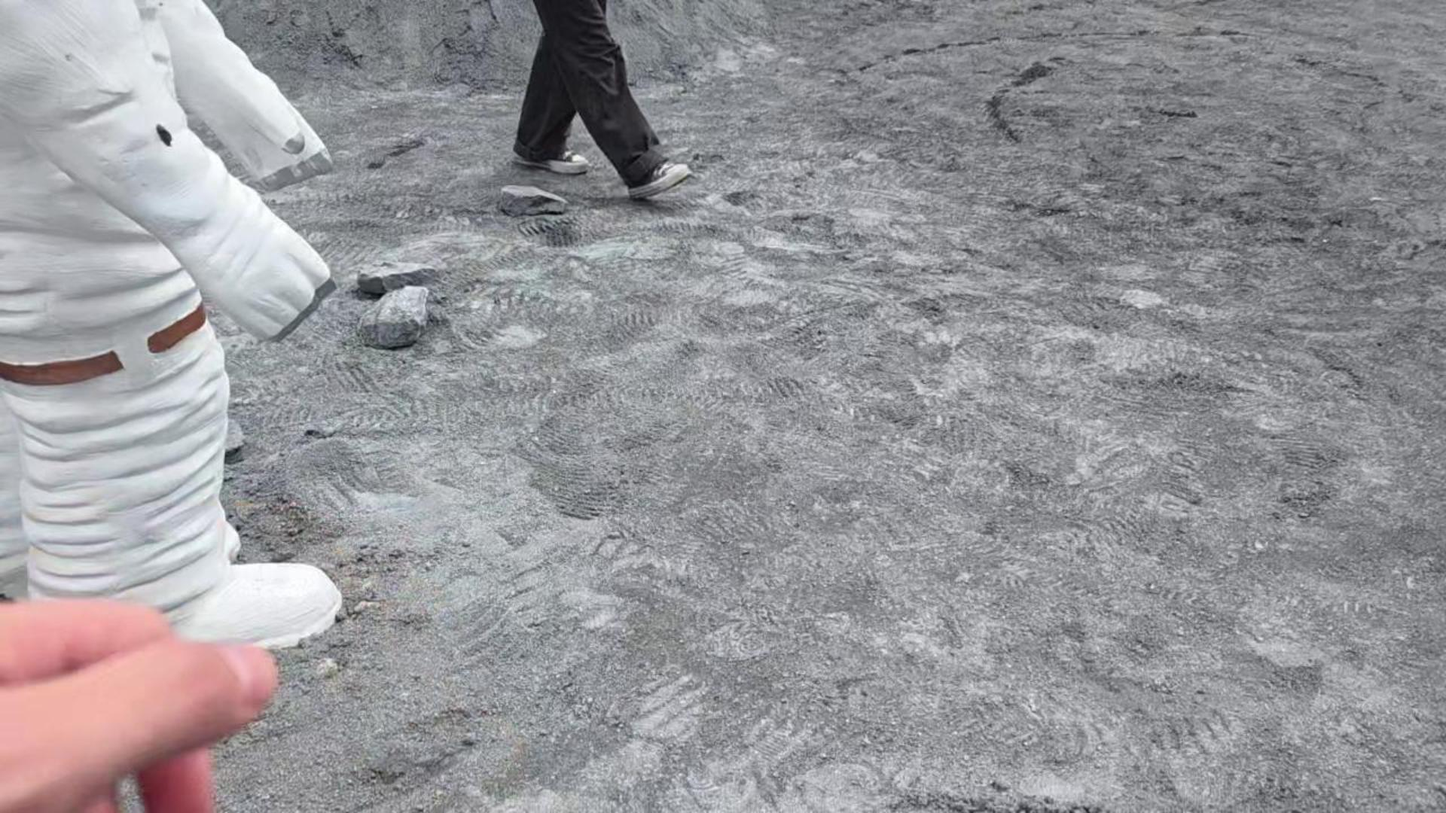rock: (357, 286, 427, 348), (357, 262, 437, 295), (500, 185, 567, 216)
